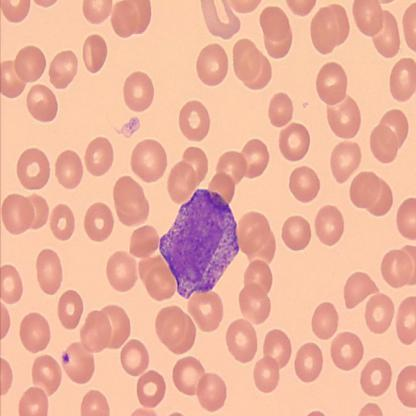Myelocyte: (159, 186, 238, 299)
